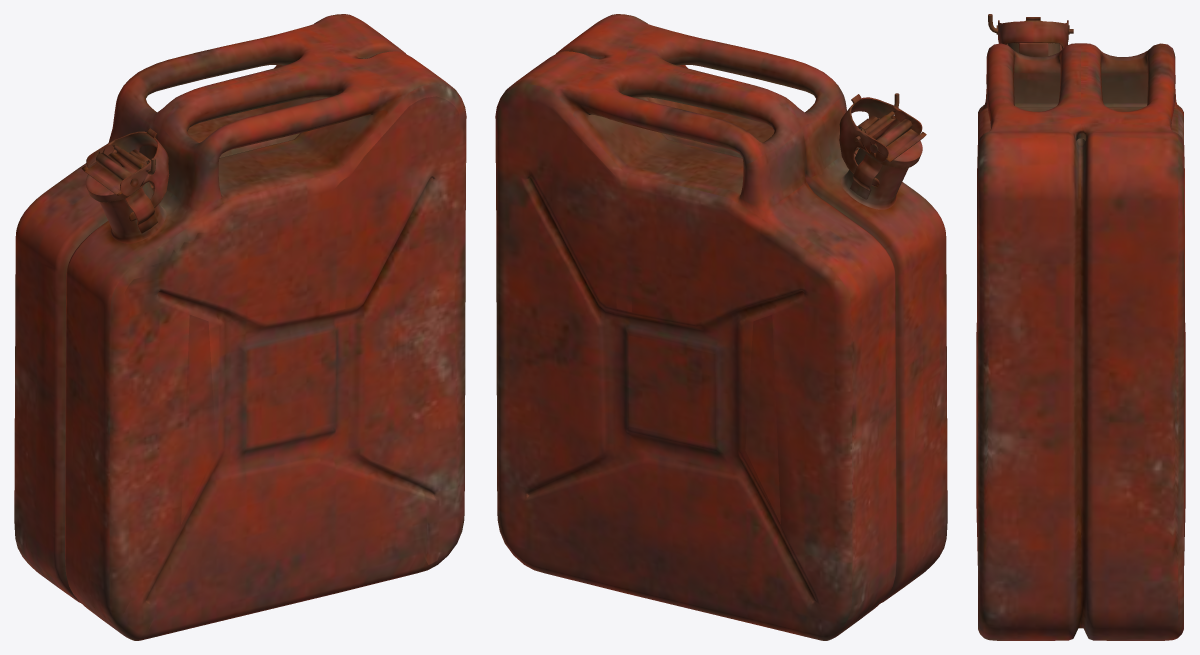
The model's file is metal_jerrycan.glb.
The picture shows the model from 3 angles, left to right: view 1: azimuth 30°, elevation 25°; view 2: azimuth 150°, elevation 25°; view 3: azimuth 270°, elevation 25°; orthographic projection. The views are drawn at different scales.
Visible parts, largest first — view 1: metal_jerrycan; view 2: metal_jerrycan; view 3: metal_jerrycan.
Part boxes in pixels (left/top/right/bottom): metal_jerrycan: left=14, top=14, right=466, bottom=640; metal_jerrycan: left=495, top=14, right=947, bottom=640; metal_jerrycan: left=976, top=14, right=1185, bottom=640.
Size of the model in its own units: 0.3503 by 0.4552 by 0.1717.
Materials: 1 (1 with a texture image).
